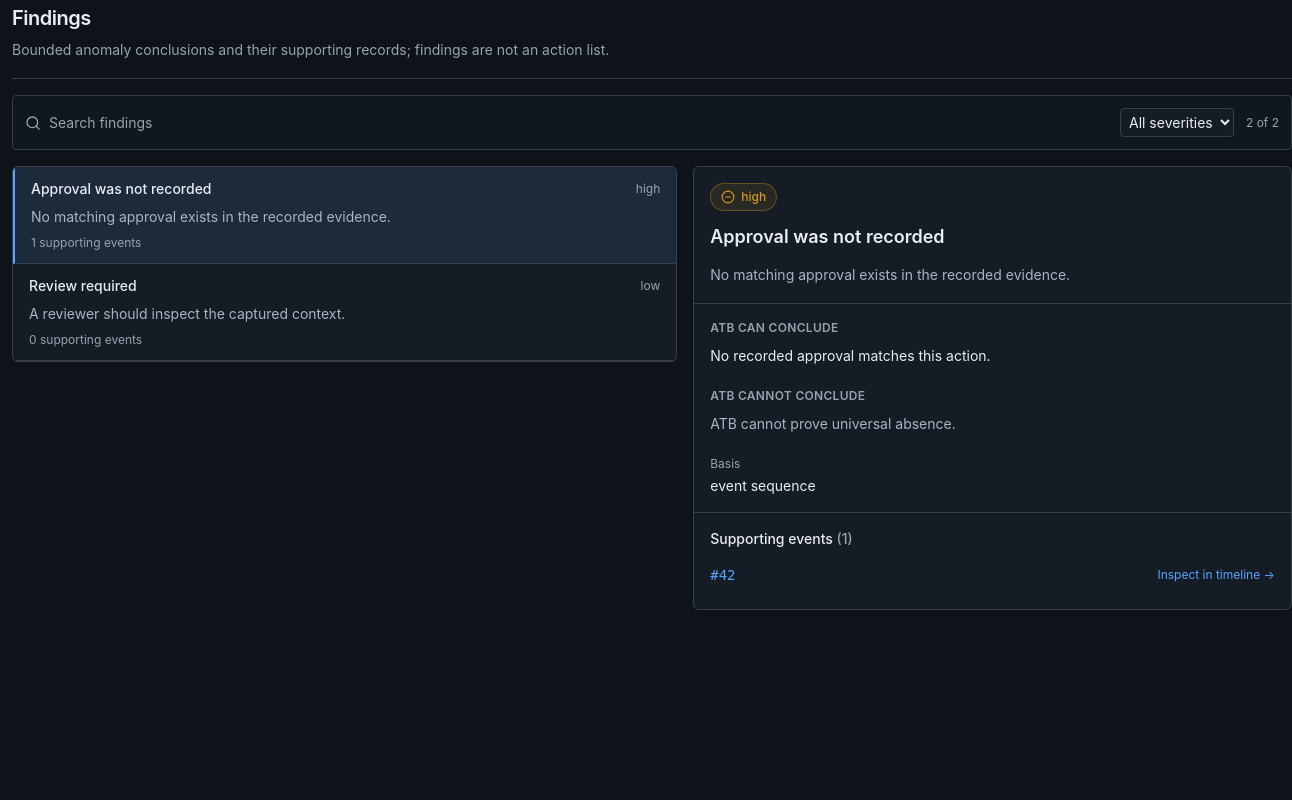
Scenario: forensic core surfaces › searches and filters findings only by their recorded severity
Type "review" into the field labelled "Search findings" at (578,122), box [49,112,1108,132]
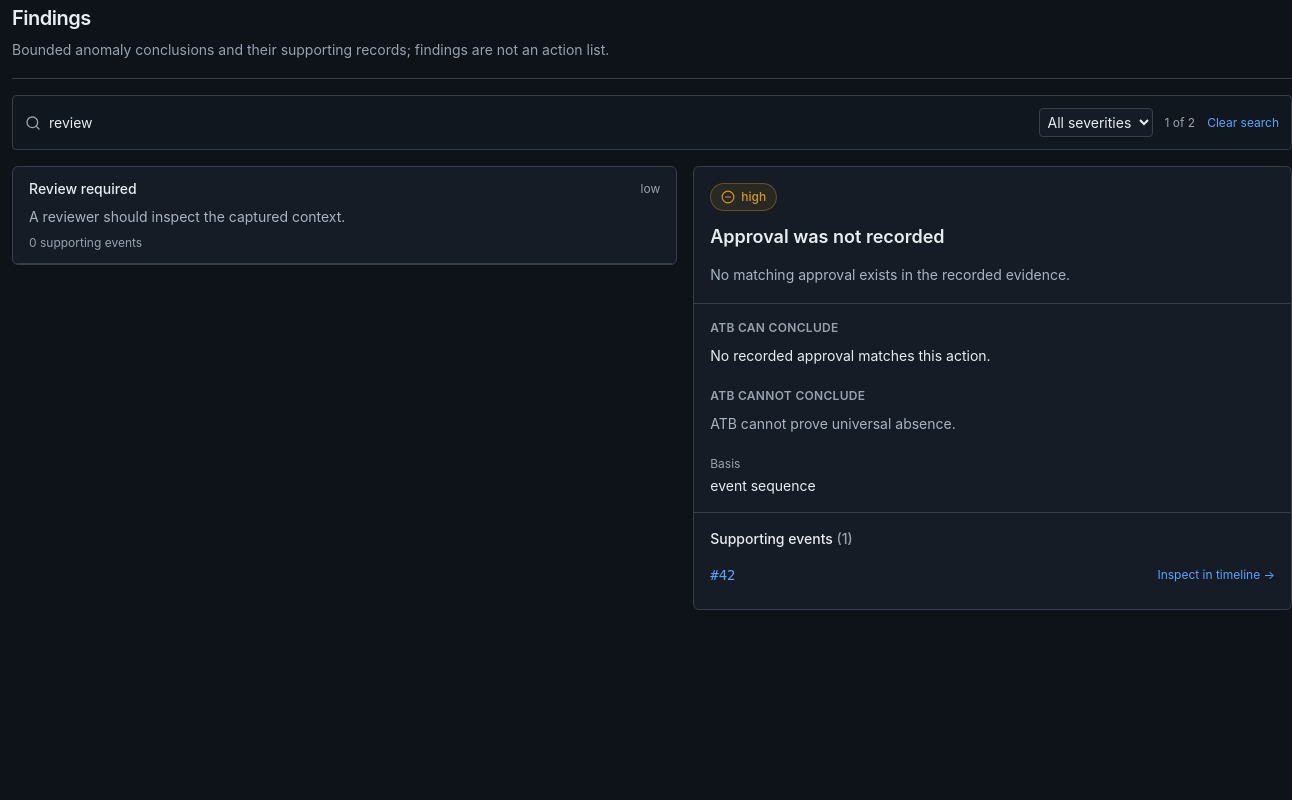
Expected: the button "Review required" is shown, [13,167,676,264]
Select "high" in the dropdown named "Finding severity" at (1096,122), box [1038,108,1152,137]
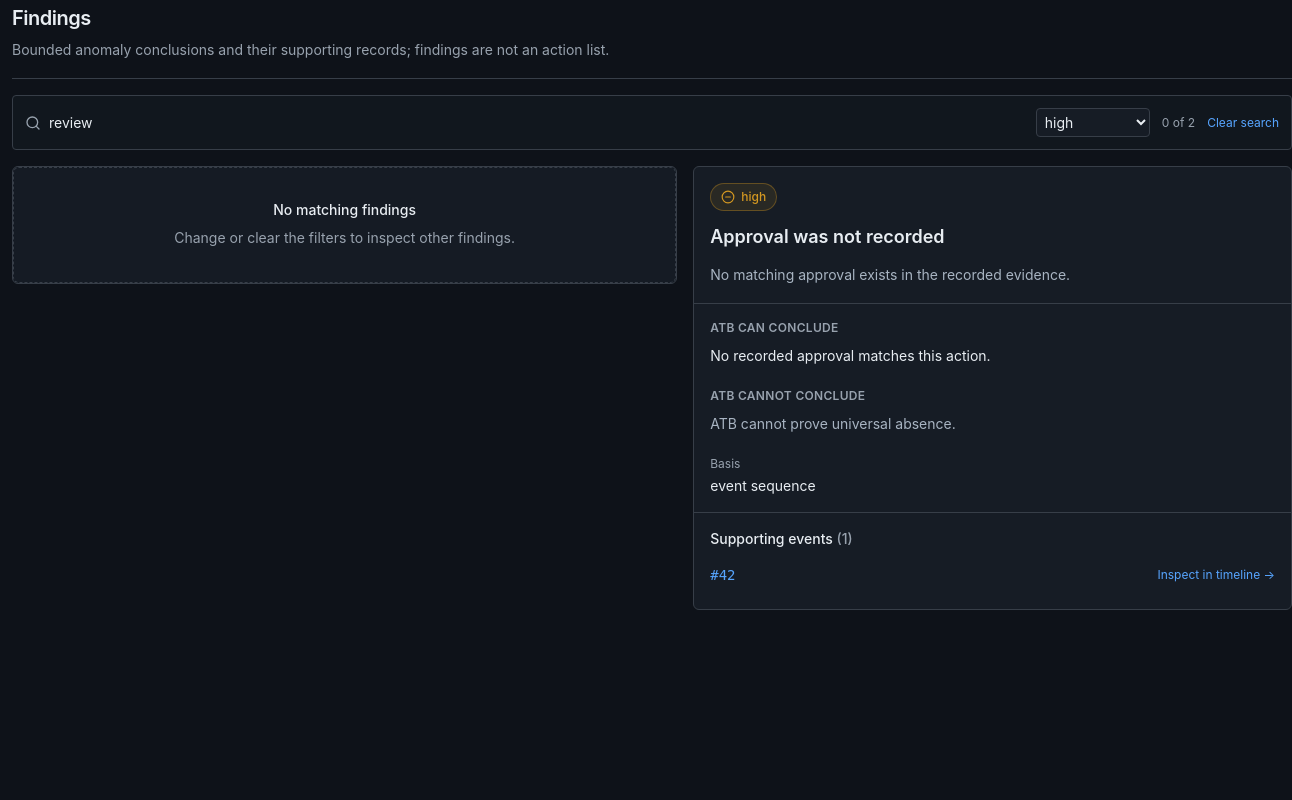
Now the text "No matching findings" is shown, box [273,201,416,218]
